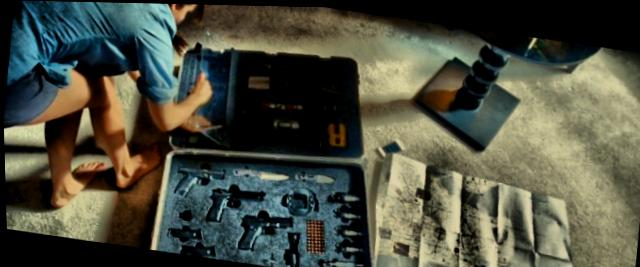pistol: (198, 177, 265, 239), (165, 147, 232, 201), (225, 206, 291, 259)
